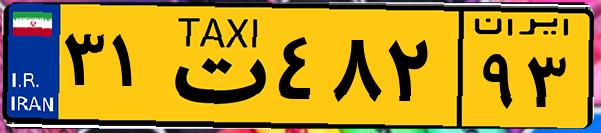1: (110, 28, 158, 98)
2: (385, 28, 445, 110)
3: (57, 26, 110, 100), (525, 38, 570, 115)
4: (270, 28, 330, 110)
8: (330, 28, 385, 110)
9: (475, 38, 525, 113)
ت: (158, 12, 270, 120)
